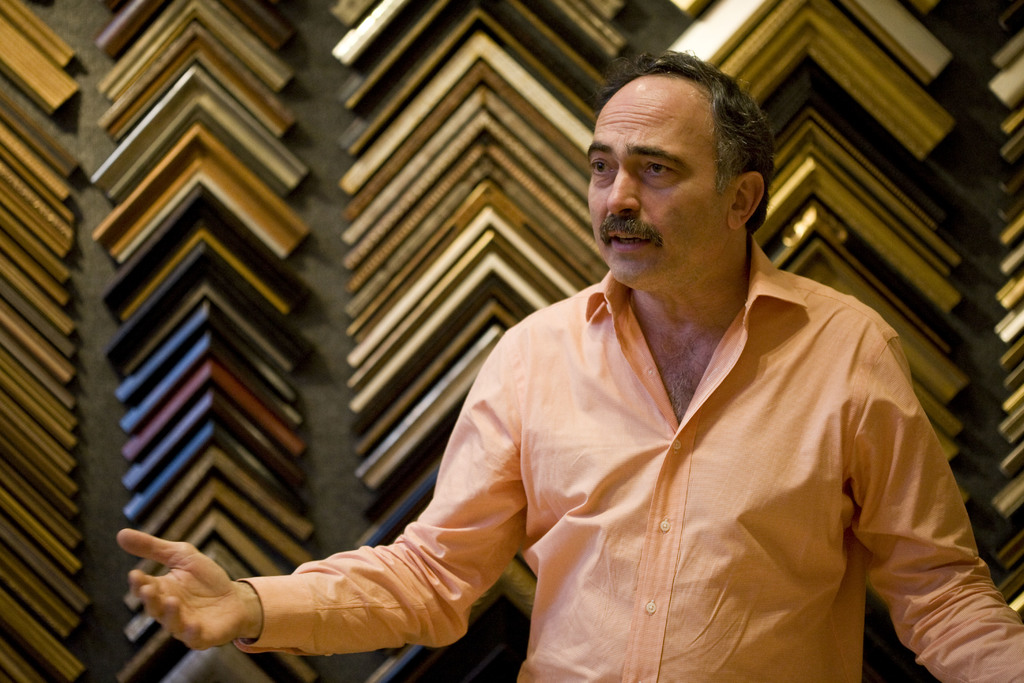Human-face: (588, 73, 729, 287)
